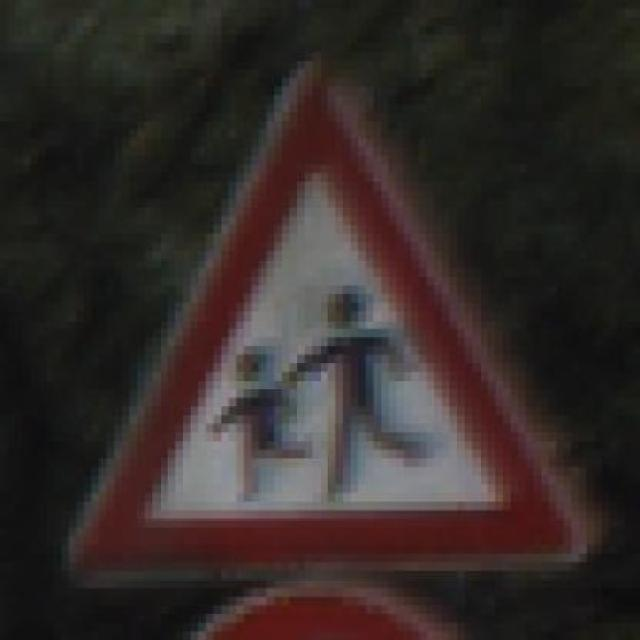Beware of children: (49, 32, 606, 596)
